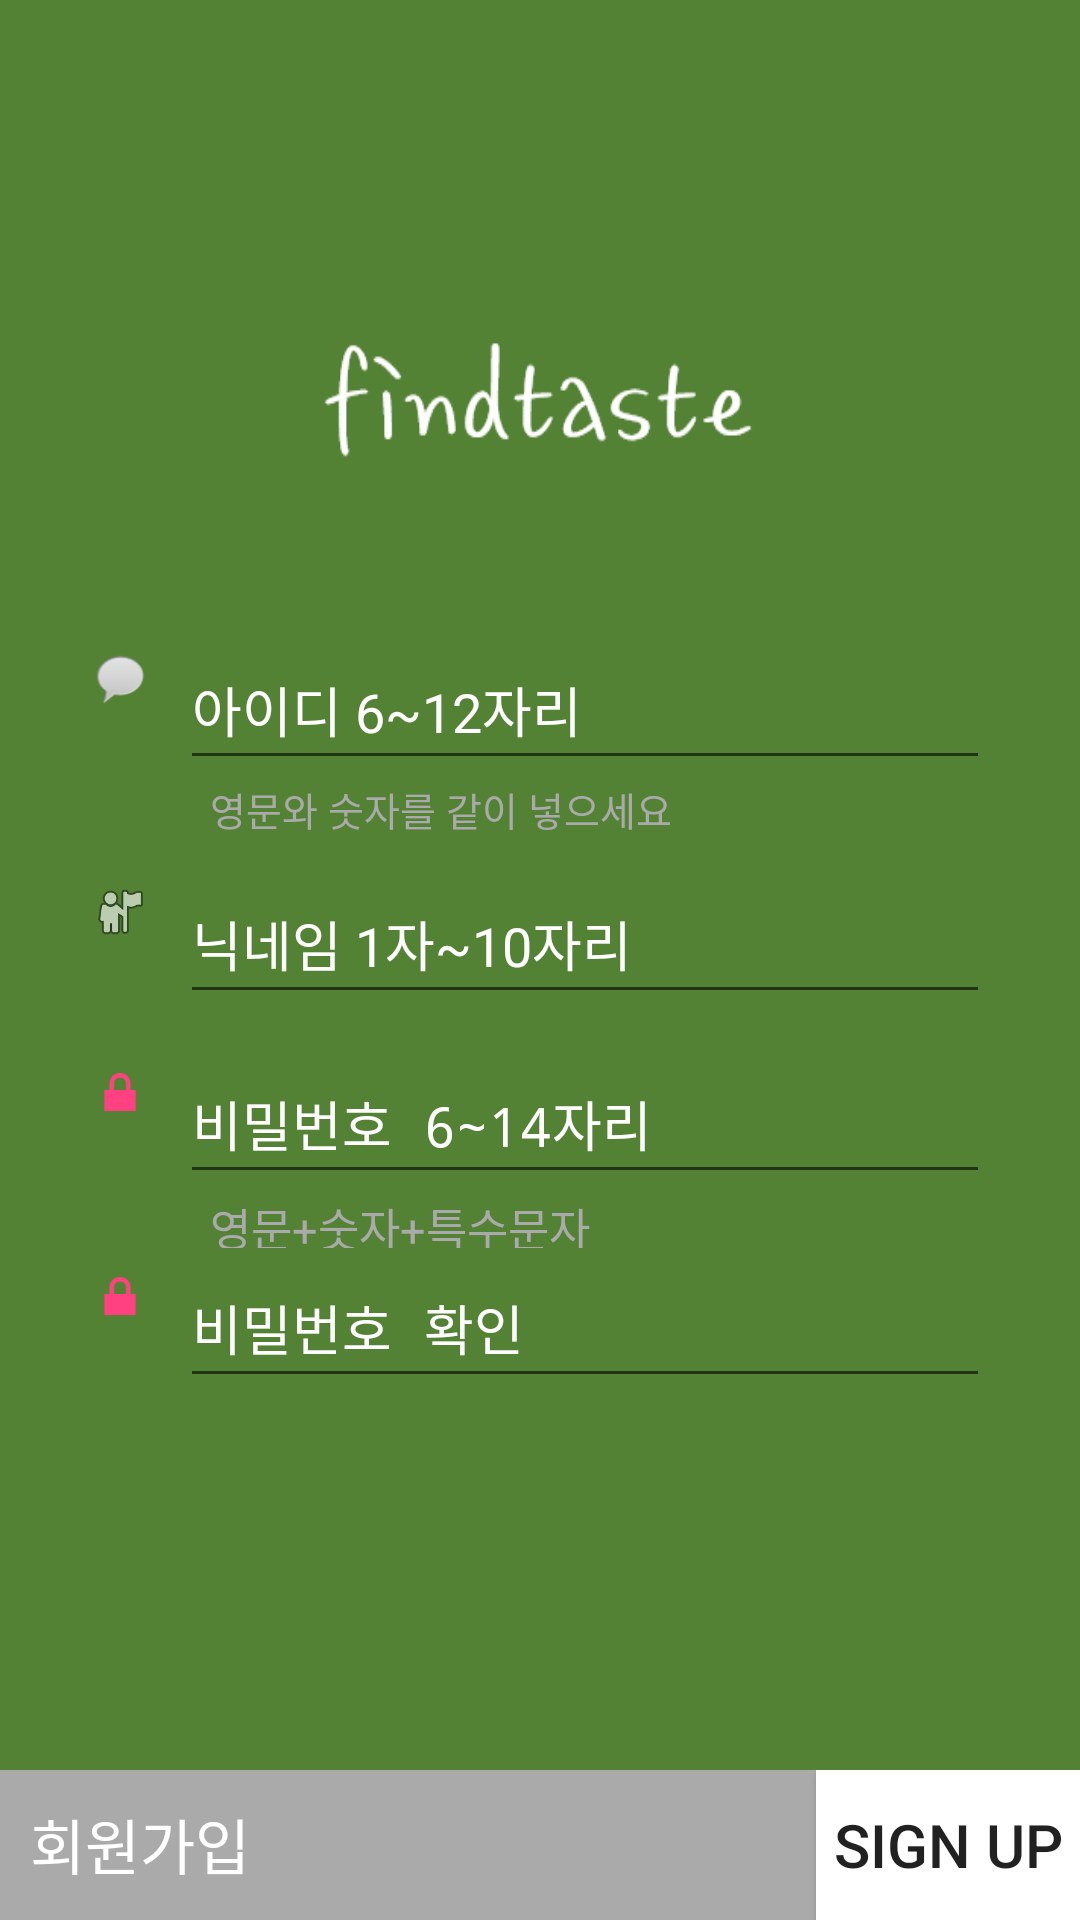

Where icons sit on this 1080×1920 app screen, as (x1, y1, x2, y2):
lock: (104, 1073, 136, 1111), (104, 1277, 136, 1315)
myplaces: (98, 890, 143, 934)
sym action chat: (97, 656, 144, 703)
